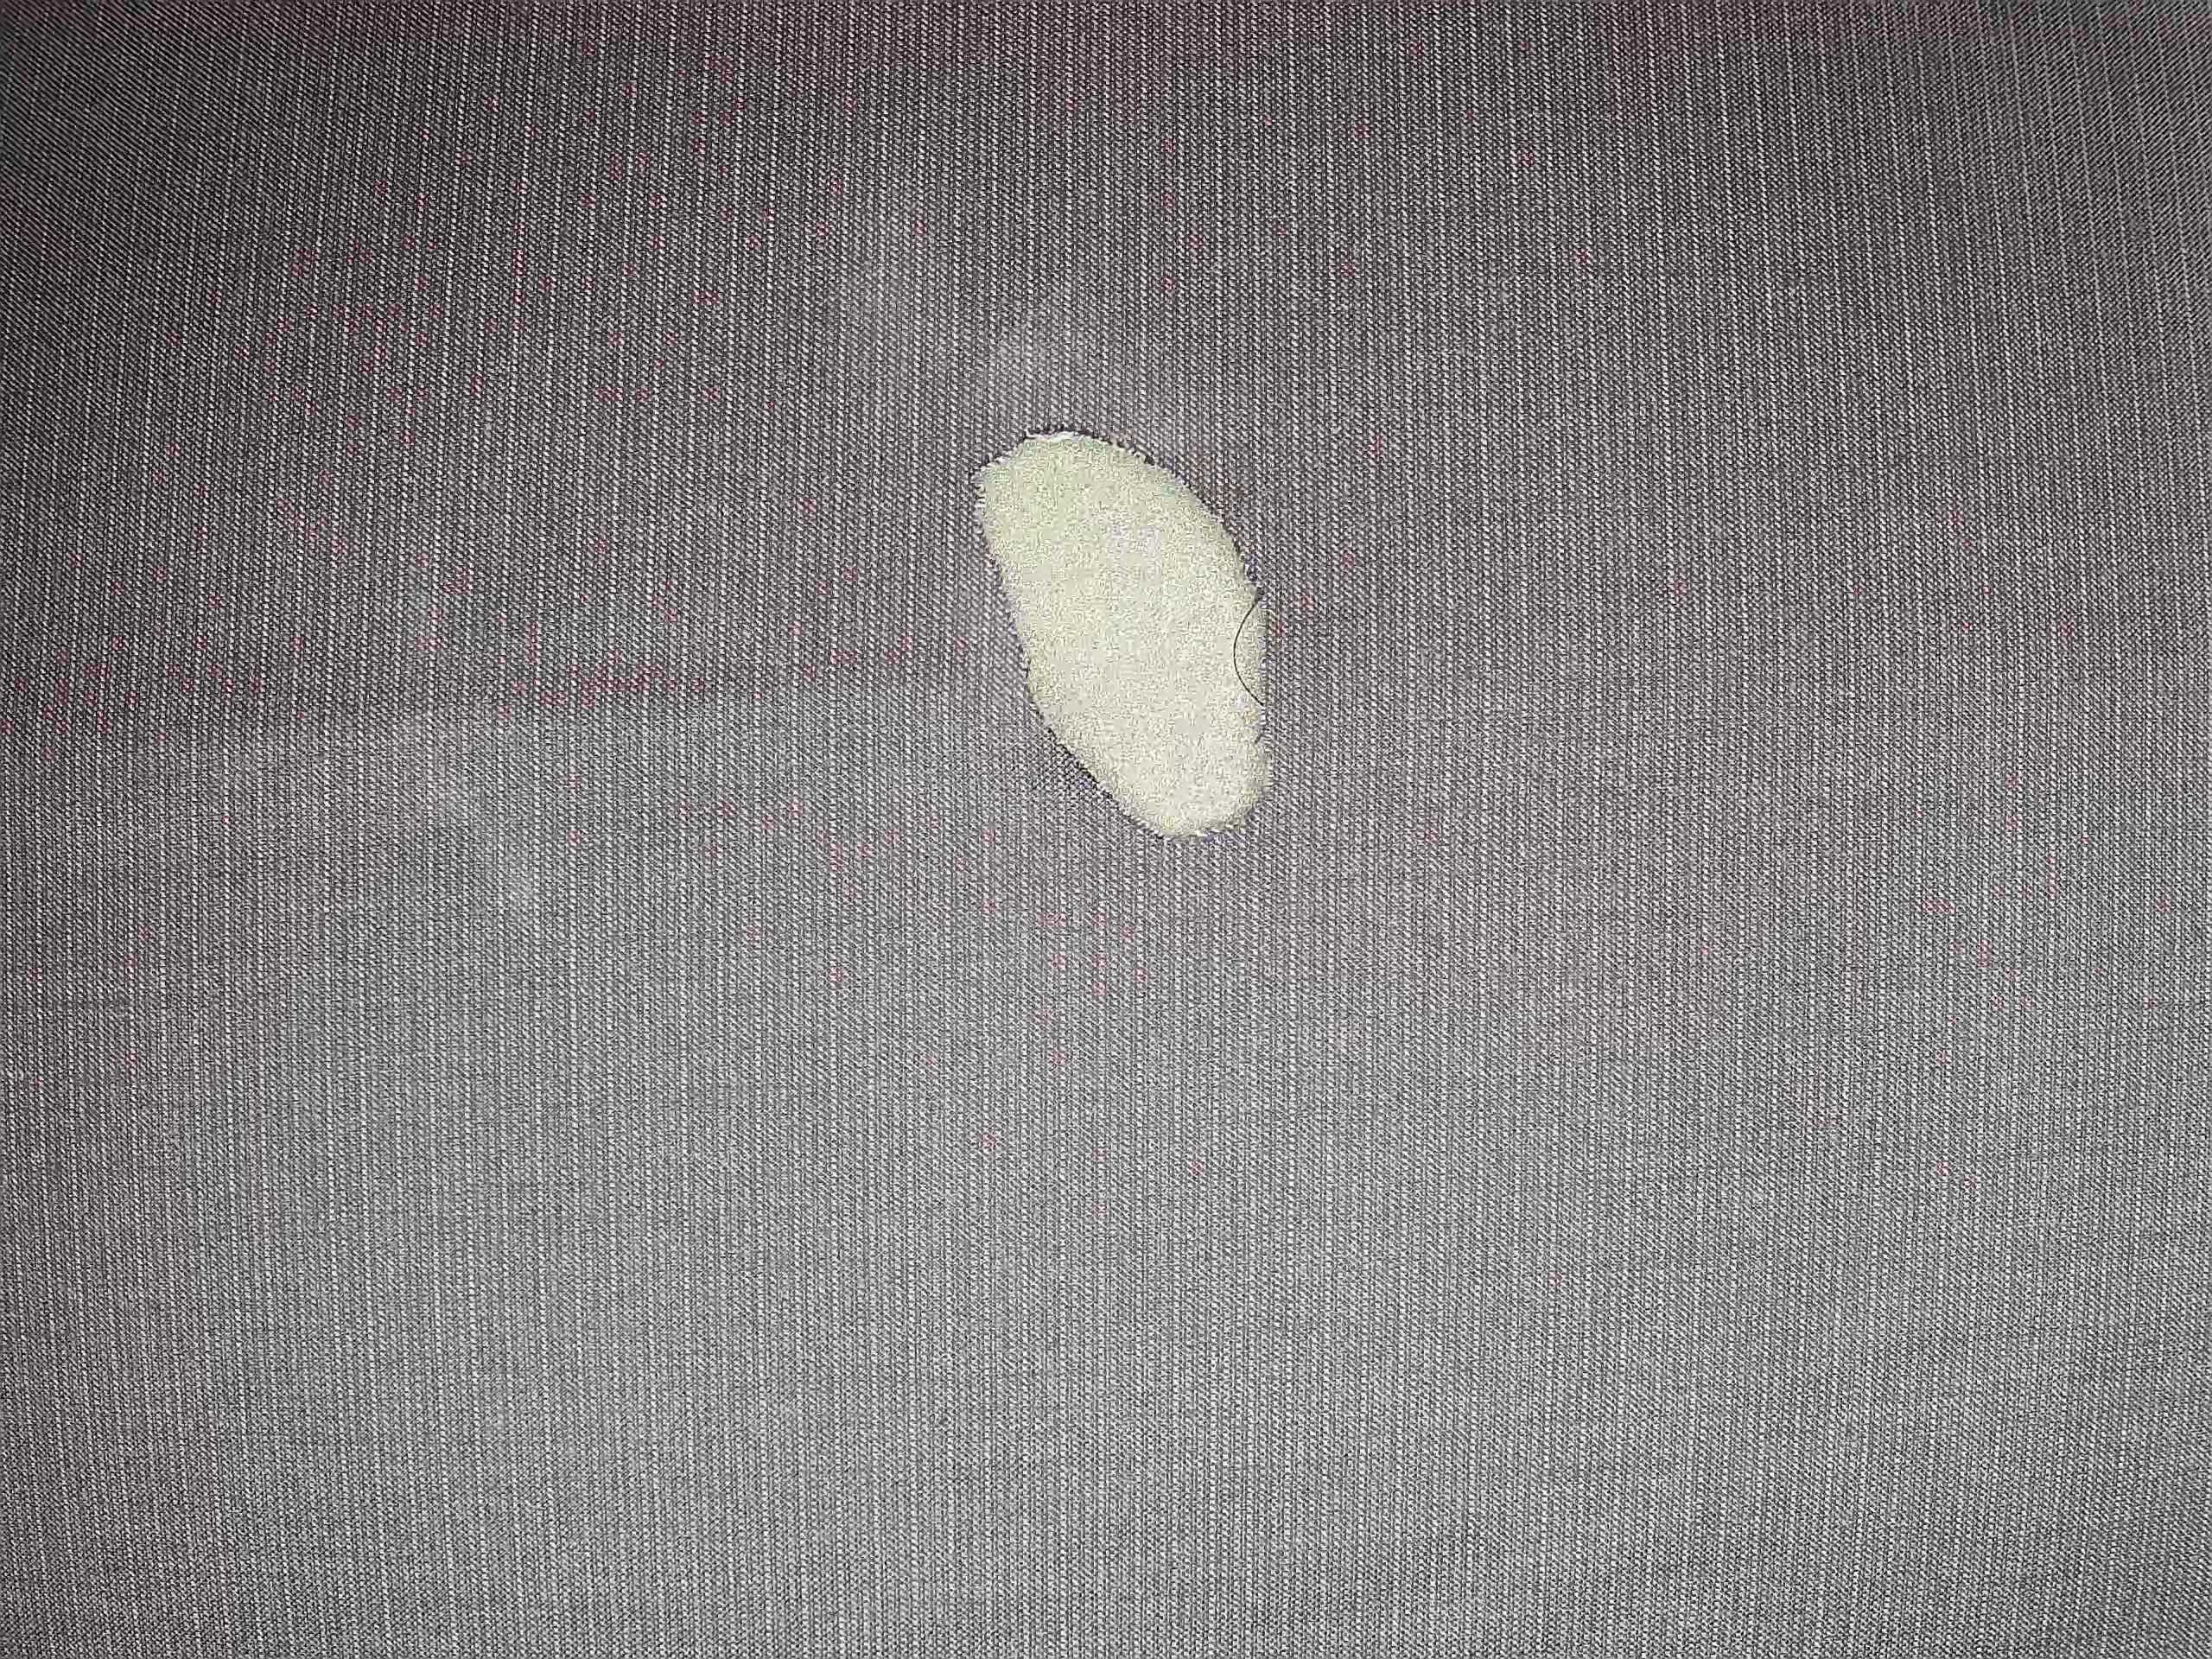rubbing-hole: (927, 380, 1332, 878)
